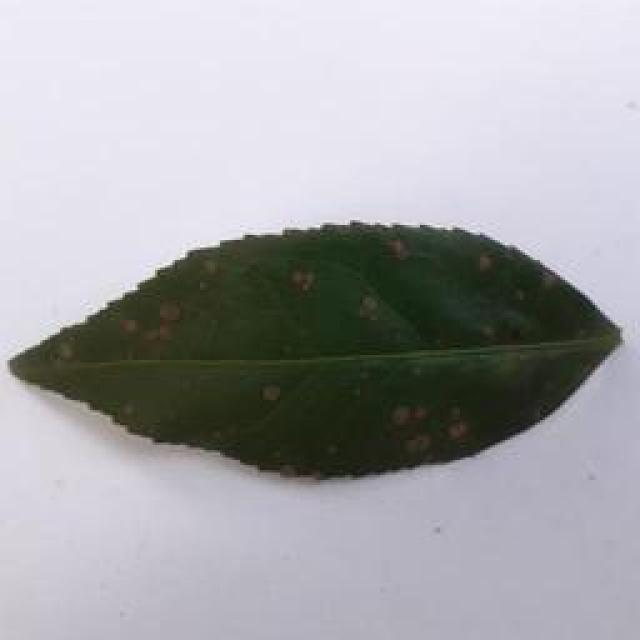Algal Leaf Spot: (12, 220, 628, 488)
